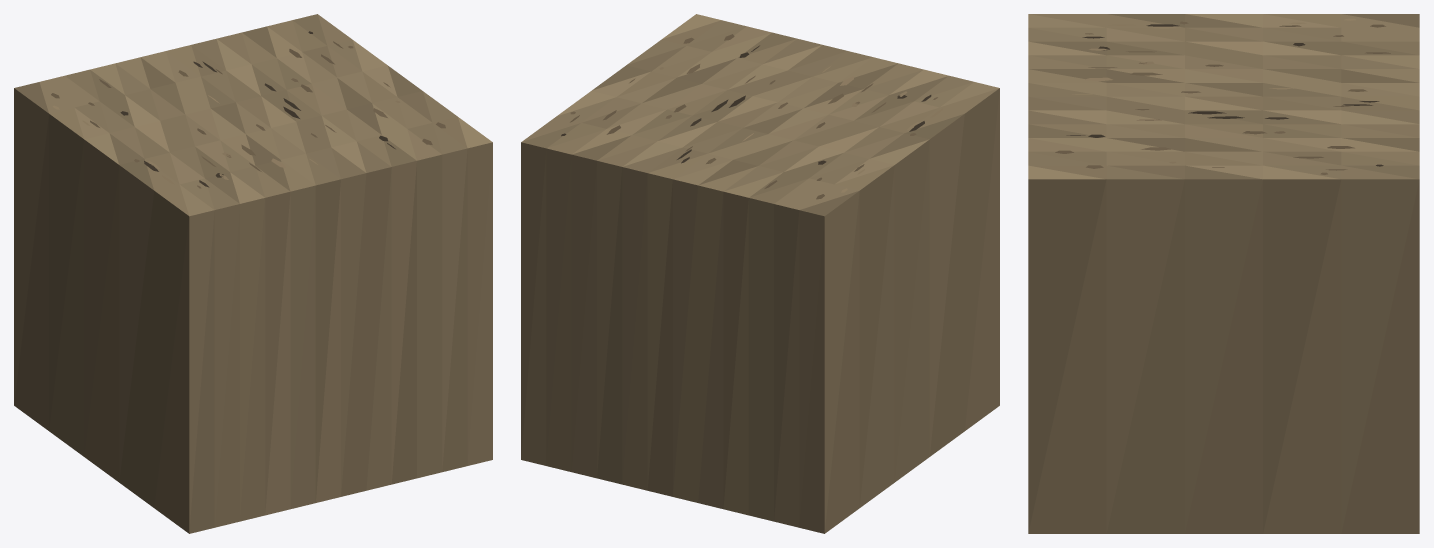
File: terrain-rest-e6d1a4.glb
The picture shows the model from 3 angles, left to right: view 1: azimuth 30°, elevation 25°; view 2: azimuth 150°, elevation 25°; view 3: azimuth 270°, elevation 25°; orthographic projection. The views are drawn at different scales.
Visible parts, largest first — view 1: terrain-rest-e6d1a4; view 2: terrain-rest-e6d1a4; view 3: terrain-rest-e6d1a4.
Part boxes in pixels (x1,y1,x2,y2): terrain-rest-e6d1a4: (14,14,492,533); terrain-rest-e6d1a4: (521,14,999,533); terrain-rest-e6d1a4: (1028,14,1419,533).
Bounding box in the file's own units: 1 × 1 × 1.
